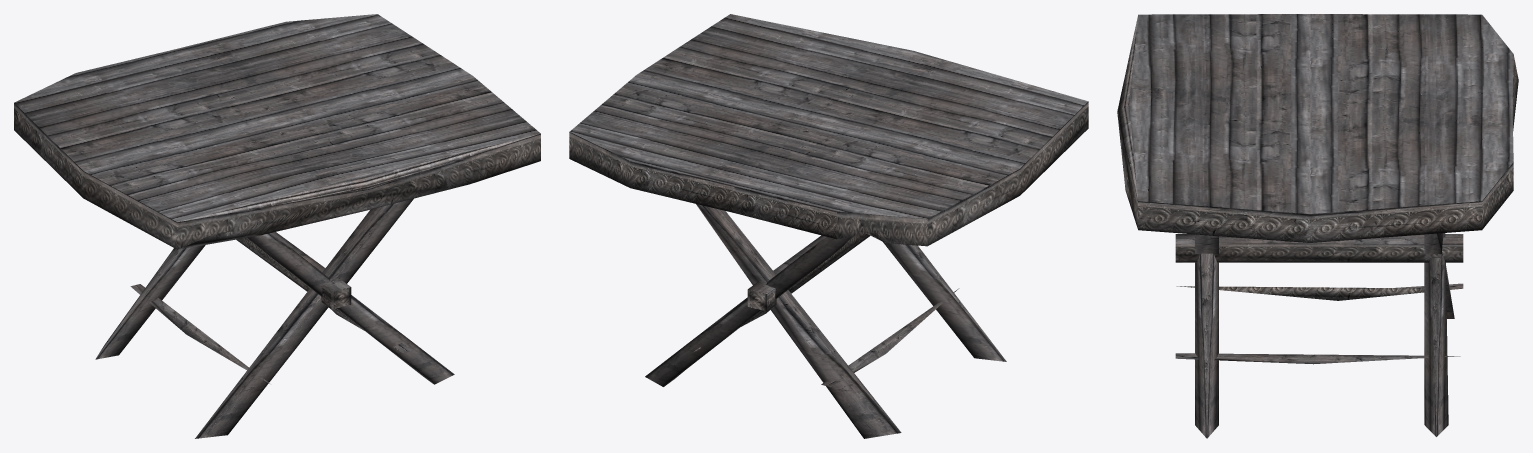
The model's file is tavern_table2_LOD.fbx.
3 renders of one model, left to right at view 1: azimuth 30°, elevation 25°; view 2: azimuth 150°, elevation 25°; view 3: azimuth 270°, elevation 25°, orthographic. The views are drawn at different scales.
Parts seen in each view (by area): view 1: Default_Layer; view 2: Default_Layer; view 3: Default_Layer.
Part boxes in pixels (x1=…): Default_Layer: x1=14, y1=14, x2=540, y2=438; Default_Layer: x1=569, y1=14, x2=1088, y2=438; Default_Layer: x1=1117, y1=14, x2=1518, y2=438.
Size of the model in its own units: 597 by 376 by 507.
1 material, 1 textured.
